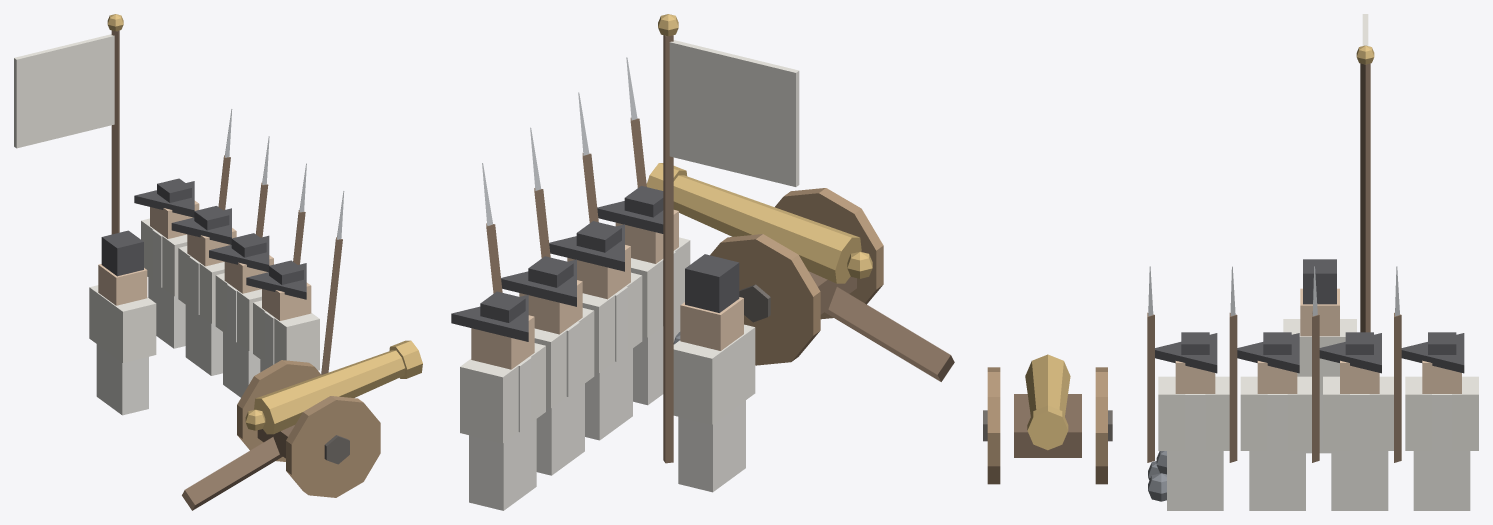
File: army.glb
3 renders of one model, left to right at view 1: azimuth 30°, elevation 25°; view 2: azimuth 150°, elevation 25°; view 3: azimuth 270°, elevation 25°, orthographic. The views are drawn at different scales.
Visible parts, largest first — view 1: gunpowder_army; view 2: gunpowder_army; view 3: gunpowder_army.
Part boxes in pixels (x1,y1,x2,y2): gunpowder_army: [14, 14, 422, 510]; gunpowder_army: [451, 14, 954, 510]; gunpowder_army: [983, 14, 1478, 510].
Size of the model in its own units: 0.6574 by 0.9176 by 0.9995.
